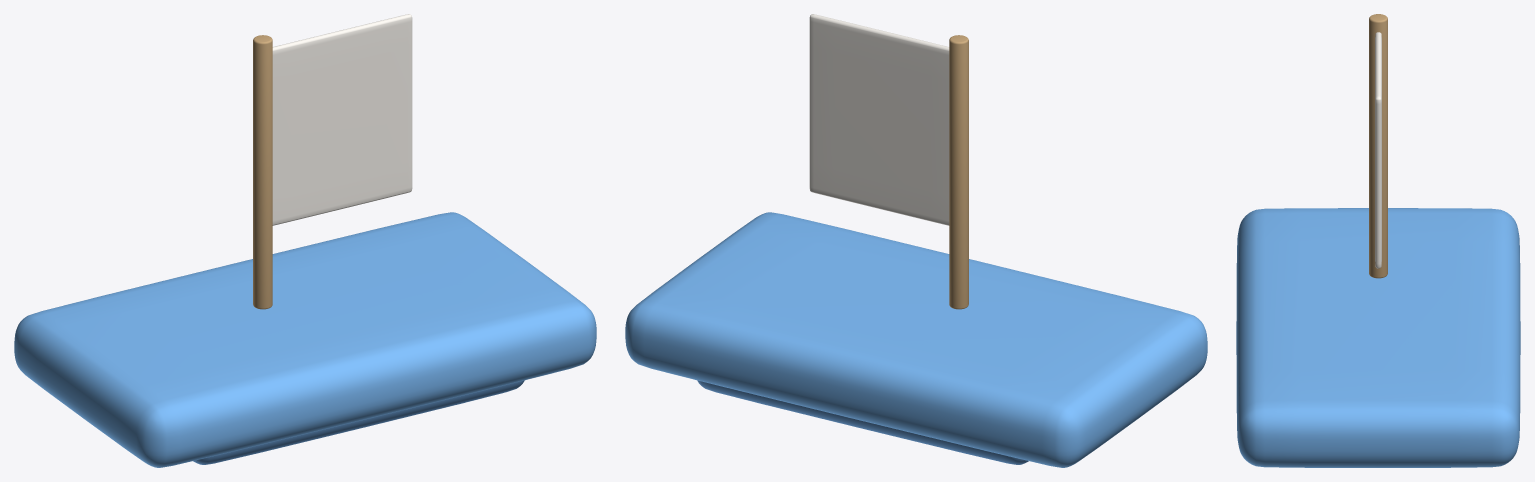
Rendered from boat.glb.
3 renders of one model, left to right at view 1: azimuth 30°, elevation 25°; view 2: azimuth 150°, elevation 25°; view 3: azimuth 270°, elevation 25°, orthographic. The views are drawn at different scales.
Visible parts, largest first — view 1: Cube, Cube.002, Cylinder, Cube.001; view 2: Cube, Cube.002, Cylinder, Cube.001; view 3: Cube, Cylinder, Cube.002.
Part boxes in pixels (bbox=[...]): Cube: bbox=[14, 212, 596, 467]; Cube.002: bbox=[272, 14, 412, 225]; Cylinder: bbox=[253, 35, 272, 309]; Cube.001: bbox=[193, 380, 524, 464]; Cube: bbox=[625, 212, 1207, 467]; Cube.002: bbox=[809, 14, 949, 225]; Cylinder: bbox=[949, 35, 968, 309]; Cube.001: bbox=[697, 380, 1028, 464]; Cube: bbox=[1236, 208, 1520, 467]; Cylinder: bbox=[1369, 14, 1387, 278]; Cube.002: bbox=[1375, 32, 1381, 268].
Size of the model in its own units: 2.15 by 1.63 by 1.2.
